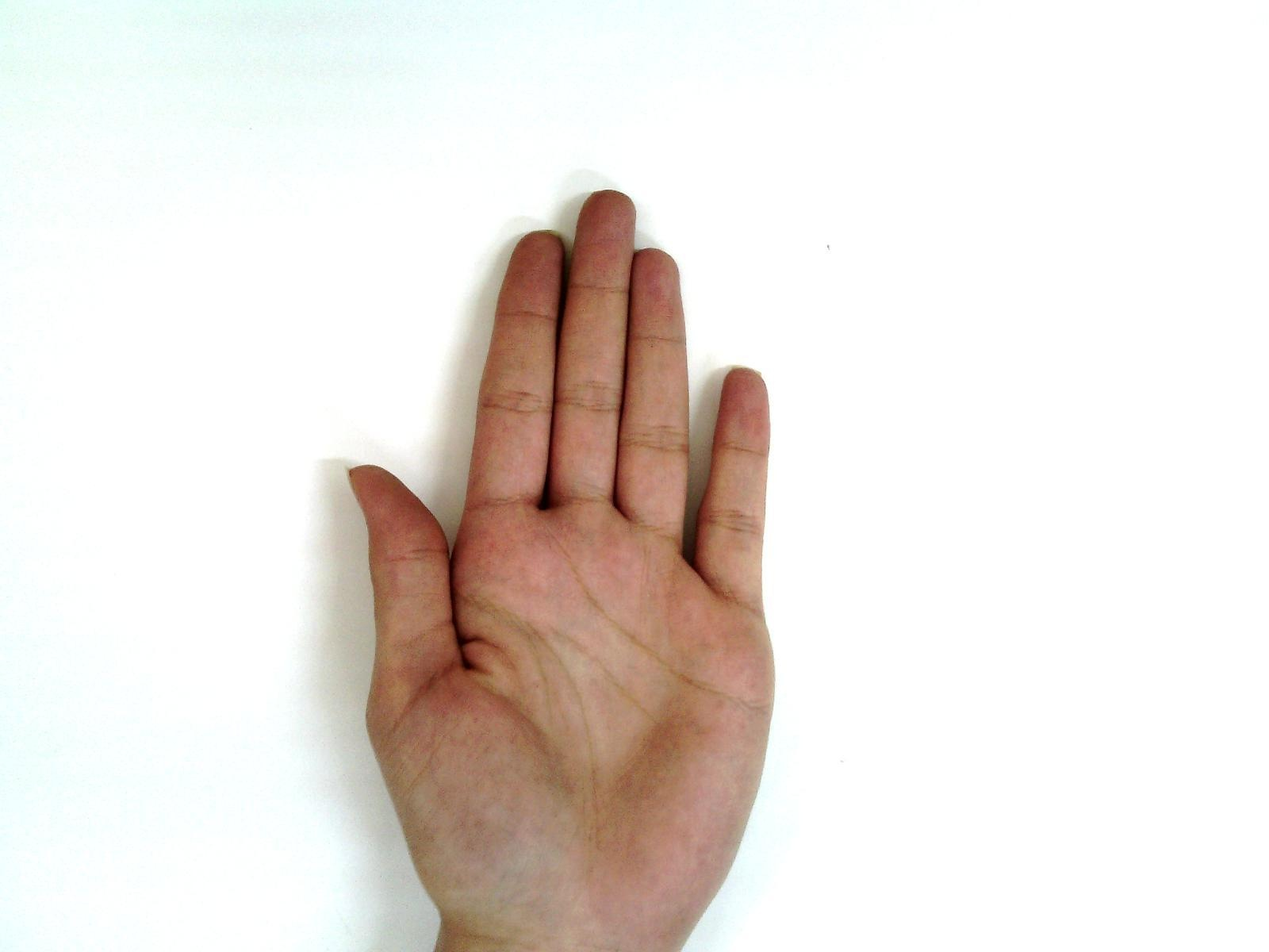open_palm: (345, 189, 780, 950)
